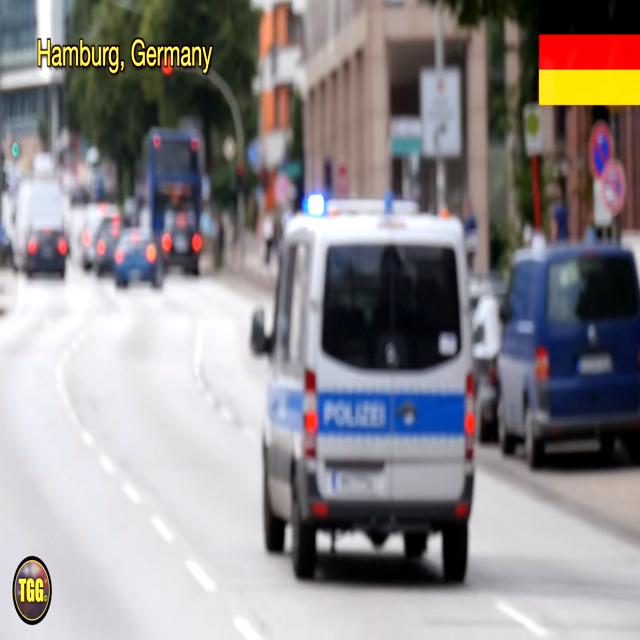emergency-vehicles: (238, 188, 502, 605)
